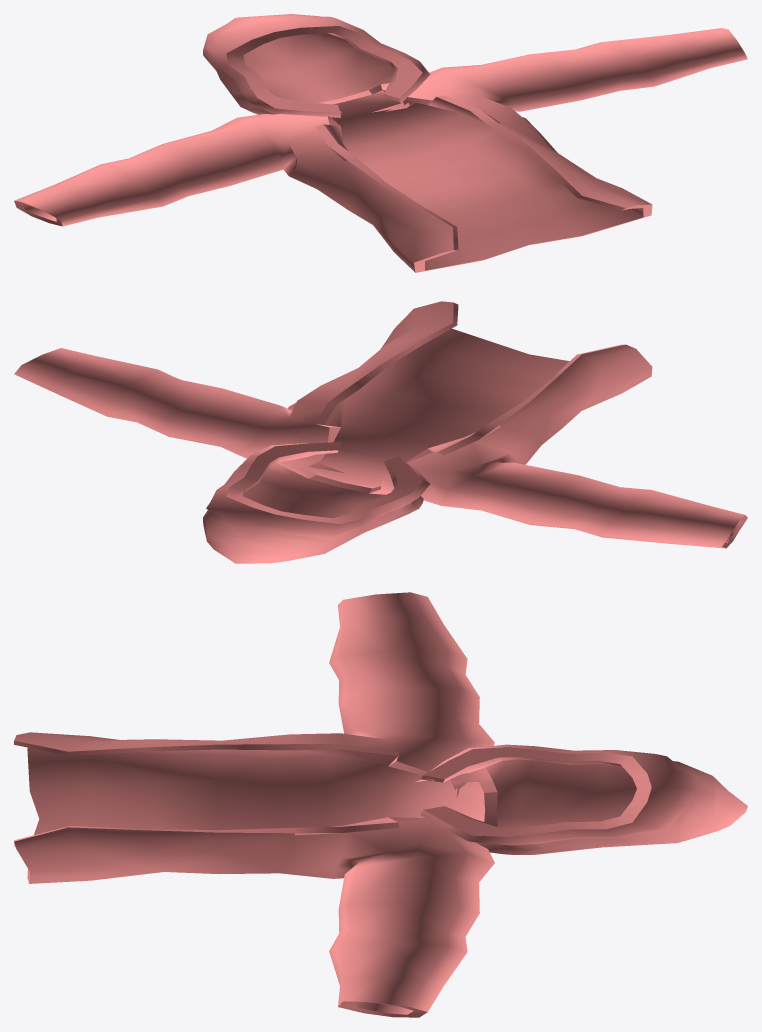
Rendered from W_Winter_Jacket_Heavy.FBX.
3 views of the same model, one above another, from view 1: azimuth 30°, elevation 25°; view 2: azimuth 150°, elevation 25°; view 3: azimuth 270°, elevation 25° (orthographic). The views are drawn at different scales.
Parts seen in each view (by area): view 1: Bob_LongCoat001; view 2: Bob_LongCoat001; view 3: Bob_LongCoat001.
Boxes of the visible parts, x1,y1,x2,y2 form: Bob_LongCoat001: (14, 14, 747, 272); Bob_LongCoat001: (14, 301, 747, 563); Bob_LongCoat001: (14, 592, 747, 1017).
Bounding box in the file's own units: 85.52 × 3.19 × 63.69.
